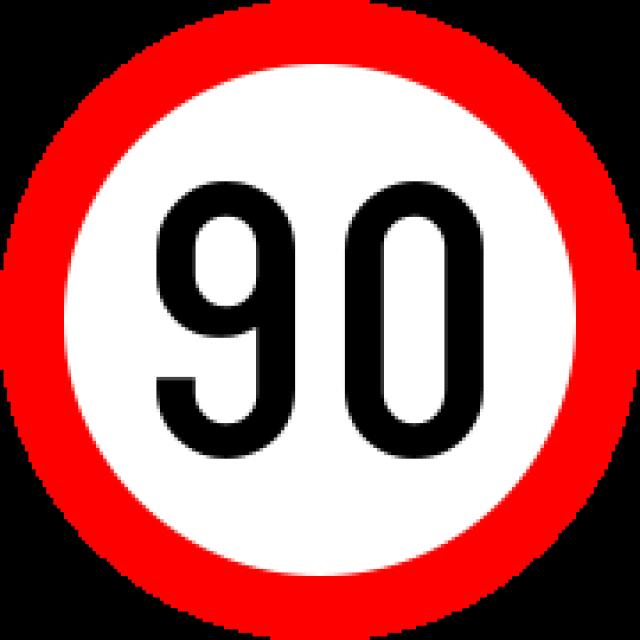Speed Limit -90-: (146, 168, 498, 470)
